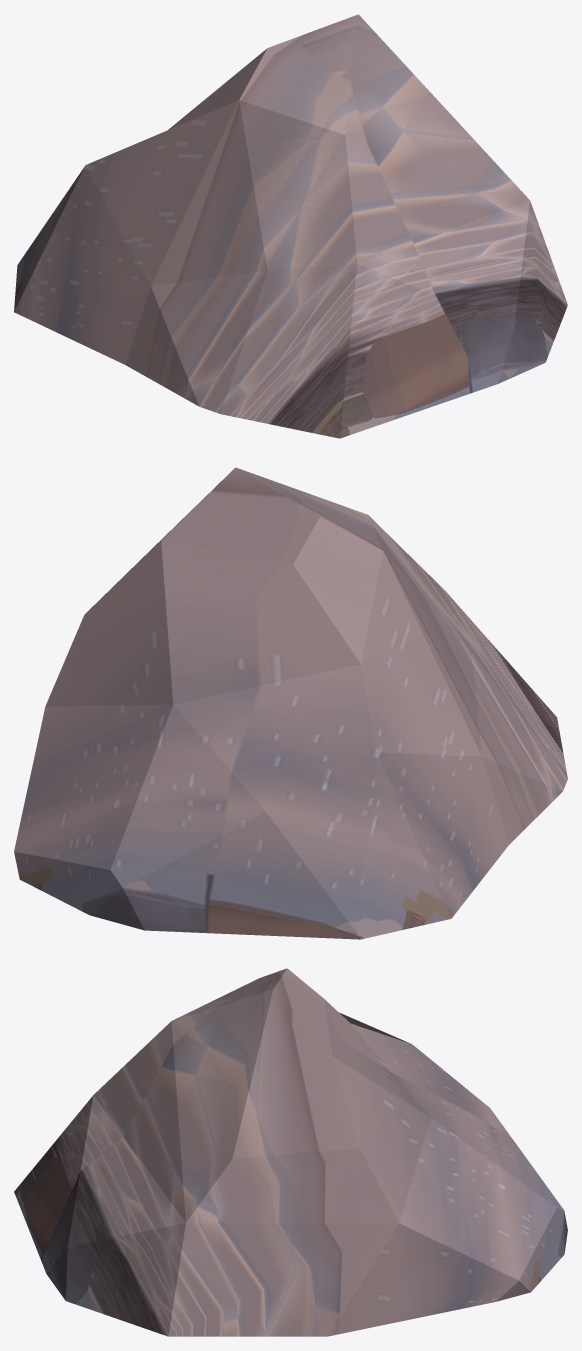
File: Mountain_4.fbx
The picture shows the model from 3 angles, top to bottom: view 1: azimuth 30°, elevation 25°; view 2: azimuth 150°, elevation 25°; view 3: azimuth 270°, elevation 25°; orthographic projection. The views are drawn at different scales.
Parts seen in each view (by area): view 1: Icosphere.035; view 2: Icosphere.035; view 3: Icosphere.035.
Part boxes in pixels (x1,y1,x2,y2): Icosphere.035: [14, 14, 567, 438]; Icosphere.035: [14, 467, 567, 939]; Icosphere.035: [14, 968, 567, 1336].
Bounding box in the file's own units: 5926 × 3848 × 7016.
